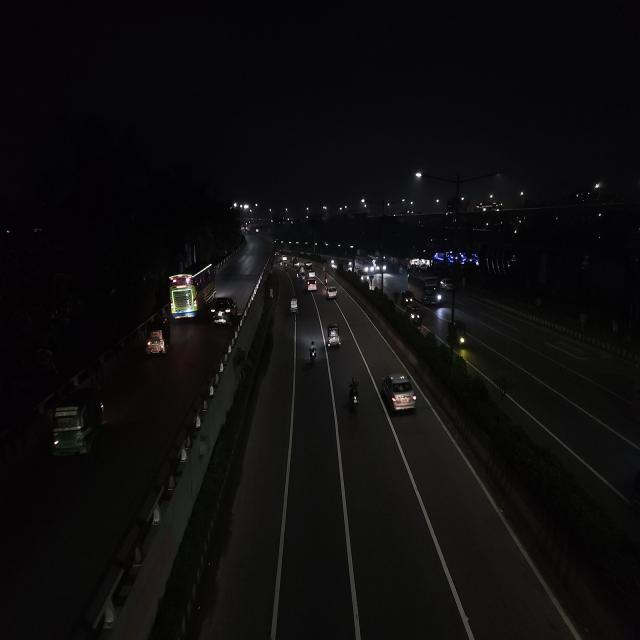bus: (168, 262, 218, 318), (407, 267, 443, 307), (360, 255, 374, 275), (374, 253, 386, 275)
car: (379, 369, 419, 420), (209, 295, 238, 325), (440, 273, 456, 293), (306, 277, 318, 294), (326, 285, 338, 300), (360, 272, 370, 284)
cng: (47, 390, 100, 468), (145, 316, 172, 358), (447, 315, 467, 352), (324, 322, 342, 349), (406, 305, 424, 327), (400, 289, 416, 308)
motorcycle: (346, 376, 361, 415), (308, 340, 320, 365), (322, 274, 328, 286)
rickshaw: (288, 297, 300, 319)
